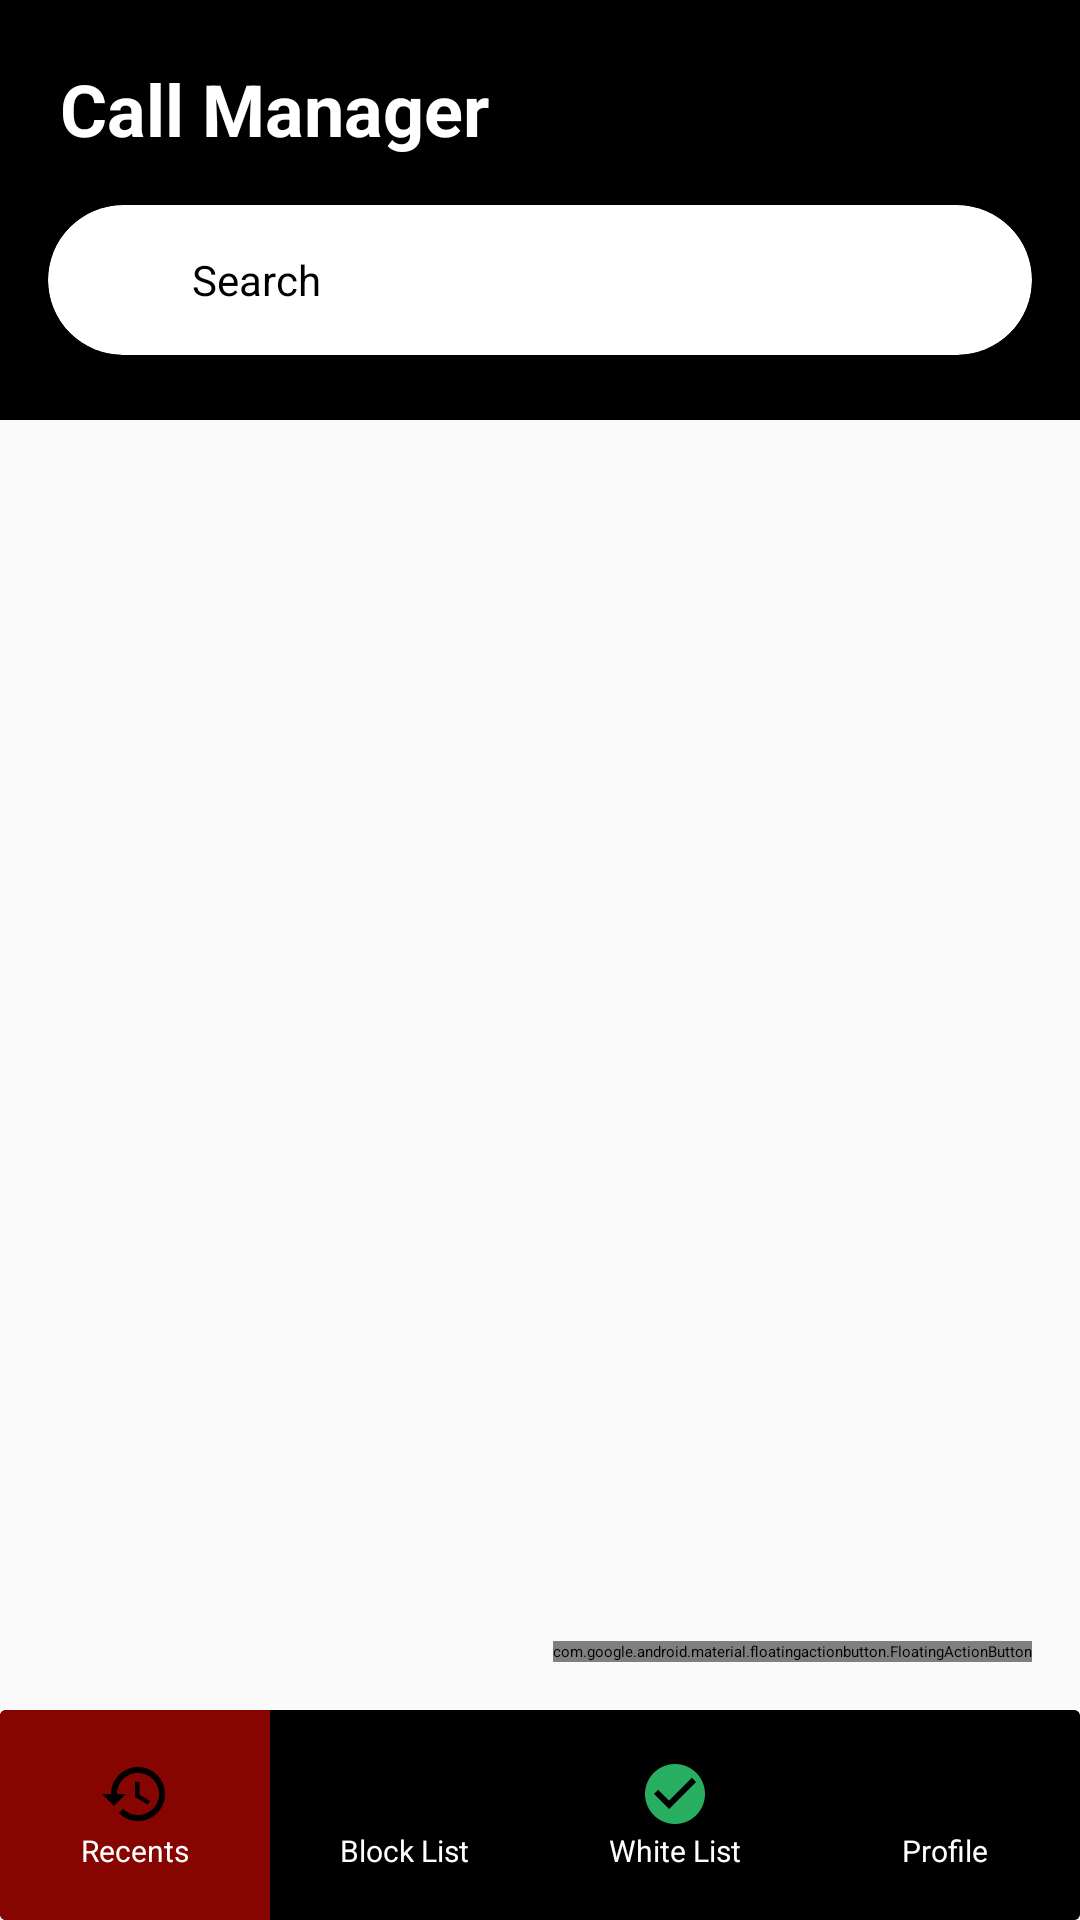

Point at icon controls on the screen. Image size 1080×1920, points as [x,y].
history: [133,1794]
verified: [675,1794]
